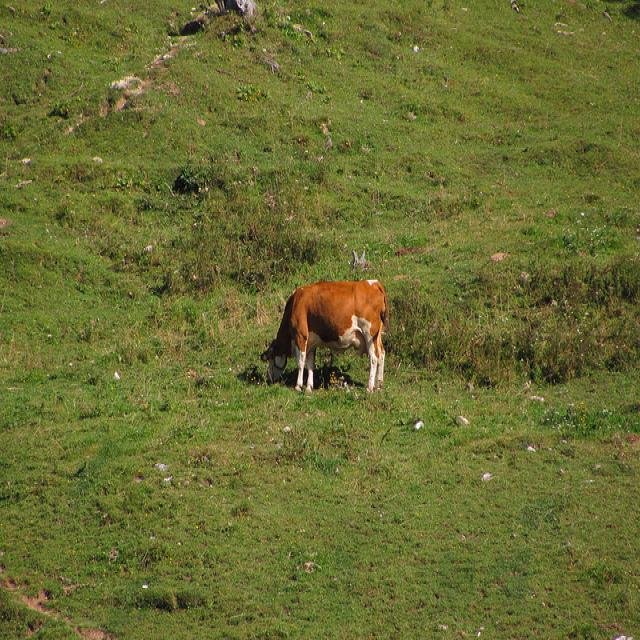cow: (259, 276, 387, 395)
